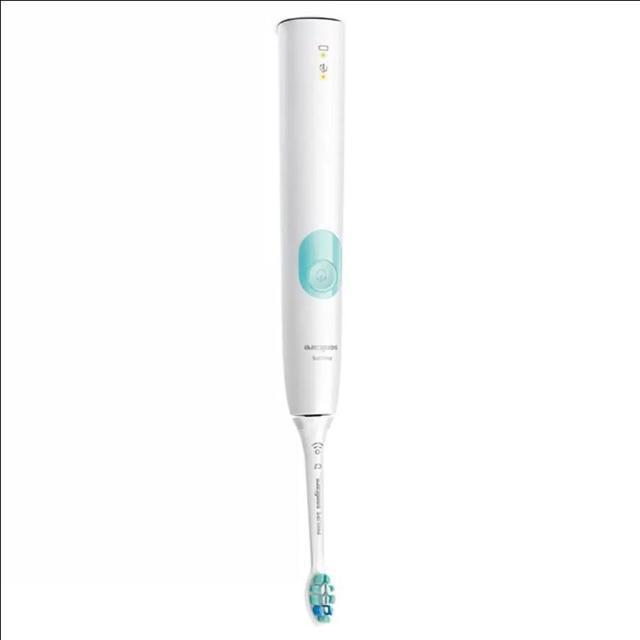toothbrush: (254, 15, 378, 633)
